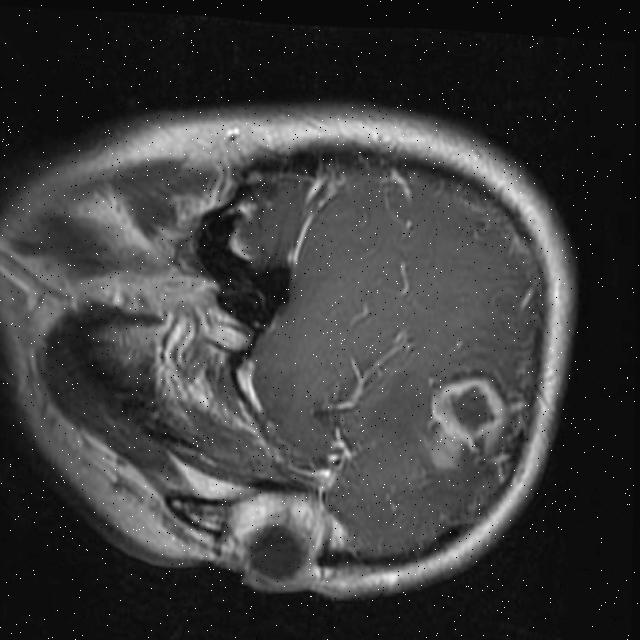Glioma: (426, 371, 512, 458)
